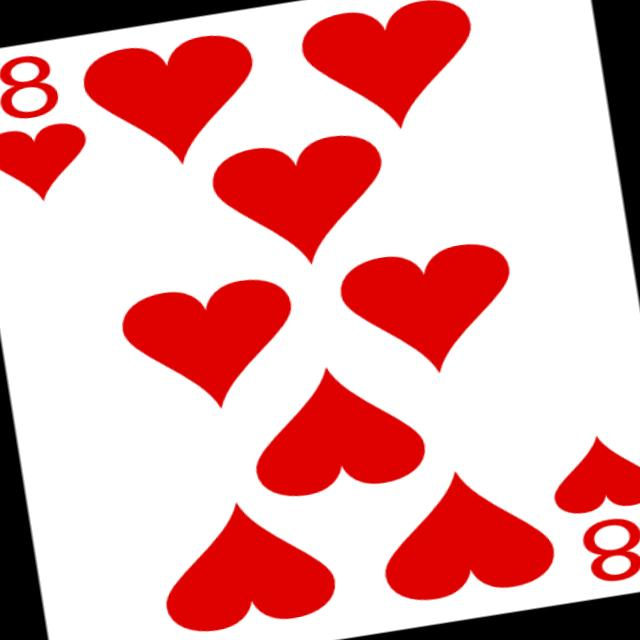Heart: (78, 29, 267, 178), (207, 129, 396, 278), (240, 354, 430, 502), (370, 458, 560, 606), (118, 273, 306, 422), (152, 489, 340, 638), (336, 237, 525, 385), (297, 0, 485, 141), (545, 427, 640, 517), (0, 119, 94, 209)
